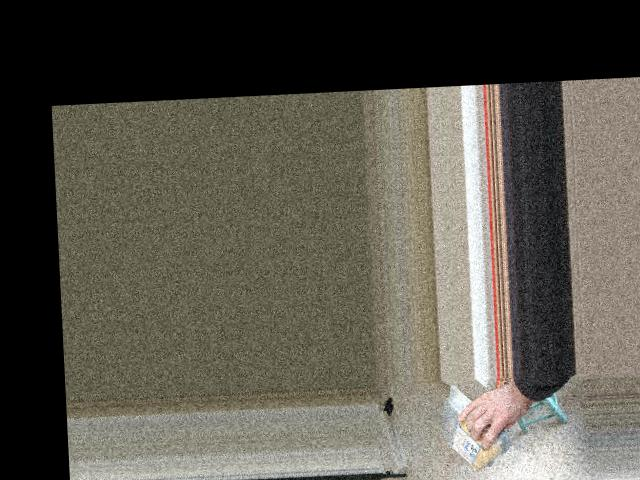cheese: (444, 381, 496, 470)
